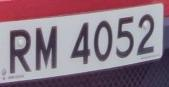0: (92, 15, 117, 67)
2: (136, 10, 159, 61)
4: (68, 16, 94, 73)
5: (114, 12, 139, 64)
M: (32, 22, 62, 77)
R: (6, 24, 36, 79)
